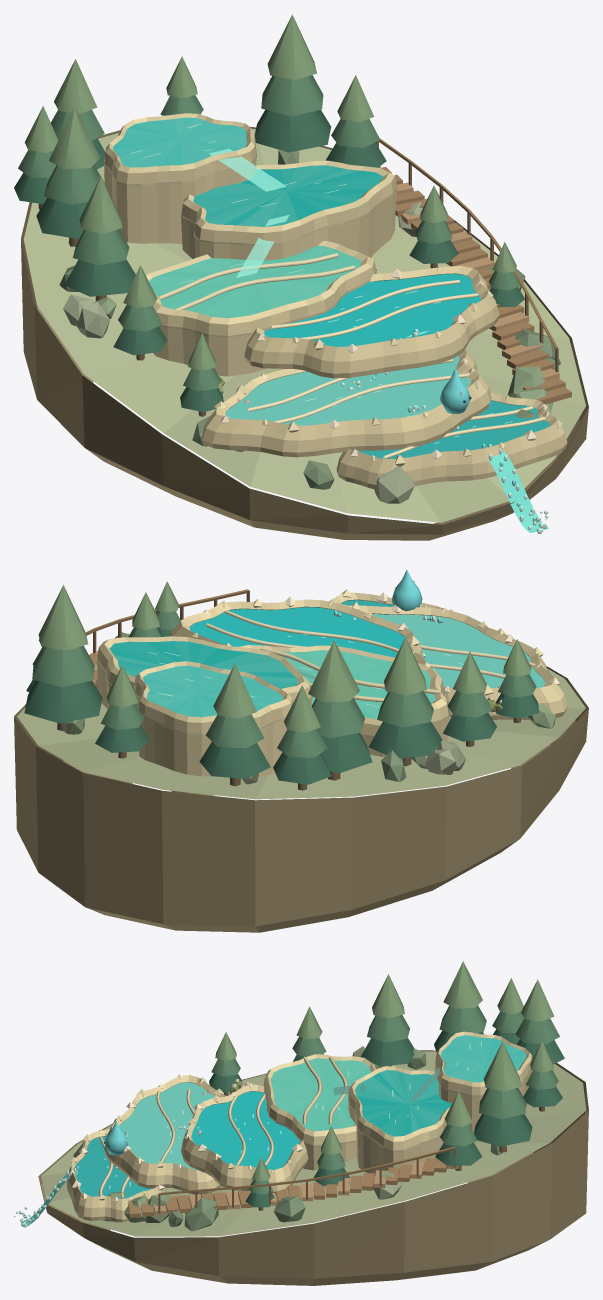
The model's file is huanglong-water-landscape.glb.
The picture shows the model from 3 angles, top to bottom: view 1: azimuth 30°, elevation 25°; view 2: azimuth 150°, elevation 25°; view 3: azimuth 270°, elevation 25°; orthographic projection. The views are drawn at different scales.
Visible parts, largest first — view 1: Merged terrain detail (×15), Pond 2 rim, Pond 1 rim, Pond 2 water, Water surface 3, Pond 1 water, Water surface 2, Pond 3 rim, Water surface 1, Pond 3 water, Pond 3 overflow sheet, Overflow 0 (+5 smaller); view 2: Merged terrain detail (×14), Pond 1 water, Pond 2 water, Water surface 2, Water surface 1, Pond 2 rim, Water surface 3, Pond 1 rim, water-drop-body, Pond 1 partition 0, Pond 3 rim; view 3: Merged terrain detail (×16), Pond 1 water, Water surface 3, Water surface 2, Pond 2 water, Pond 1 rim, Pond 2 rim, Water surface 1, Pond 3 water, Pond 3 rim, water-drop-body.
Boxes of the visible parts, x1,y1,x2,y2 form: Merged terrain detail (×15): (14,14,588,540); Pond 2 rim: (202,348,491,457); Pond 1 rim: (244,266,499,378); Pond 2 water: (225,355,471,425); Water surface 3: (148,246,361,318); Pond 1 water: (264,274,480,346); Water surface 2: (193,165,382,226); Pond 3 rim: (336,393,567,489); Water surface 1: (113,117,246,167); Pond 3 water: (358,400,550,458); Pond 3 overflow sheet: (486,447,548,532); Overflow 0: (209,148,286,191); Merged terrain detail (×14): (14,581,588,932); Pond 1 water: (189,607,405,657); Pond 2 water: (372,614,545,688); Water surface 2: (110,641,298,688); Water surface 1: (143,665,283,717); Pond 2 rim: (349,605,567,719); Water surface 3: (281,650,435,719); Pond 1 rim: (169,599,426,664); water-drop-body: (391,569,422,614); Pond 1 partition 0: (224,610,399,652); Pond 3 rim: (334,592,507,636); Merged terrain detail (×16): (38,961,588,1285); Pond 1 water: (191,1091,300,1169); Water surface 3: (271,1058,371,1131); Water surface 2: (355,1070,451,1136); Pond 2 water: (119,1082,213,1169); Pond 1 rim: (181,1084,308,1194); Pond 2 rim: (104,1075,225,1194); Water surface 1: (441,1035,526,1082); Pond 3 water: (74,1136,153,1198); Pond 3 rim: (66,1129,165,1222); water-drop-body: (105,1121,128,1155).
Size of the model in its own units: 8.74 by 5.63 by 13.1.
